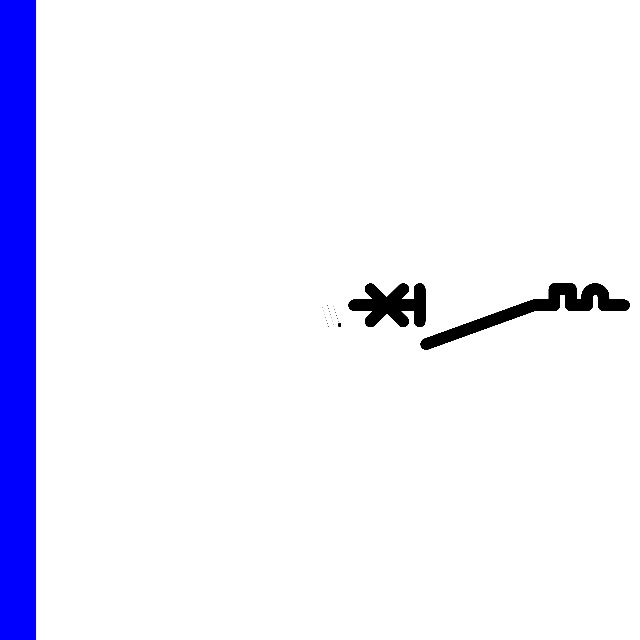interruptor_termomagnetico: (347, 282, 630, 351)
